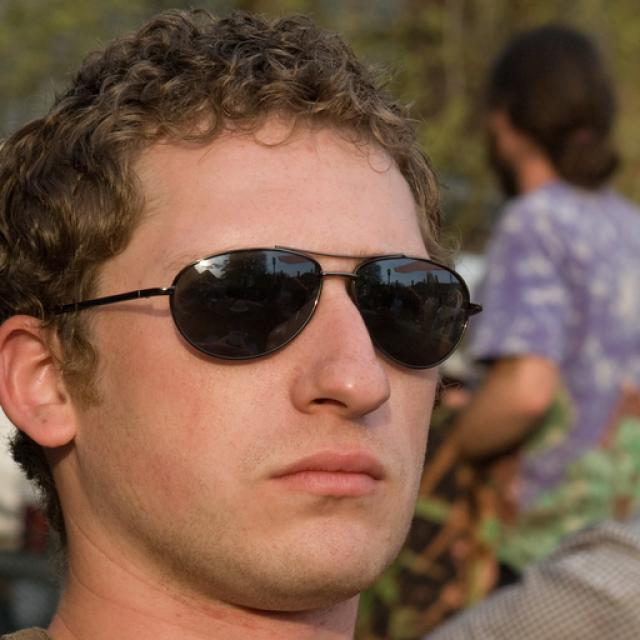neutral: (79, 104, 444, 613)
